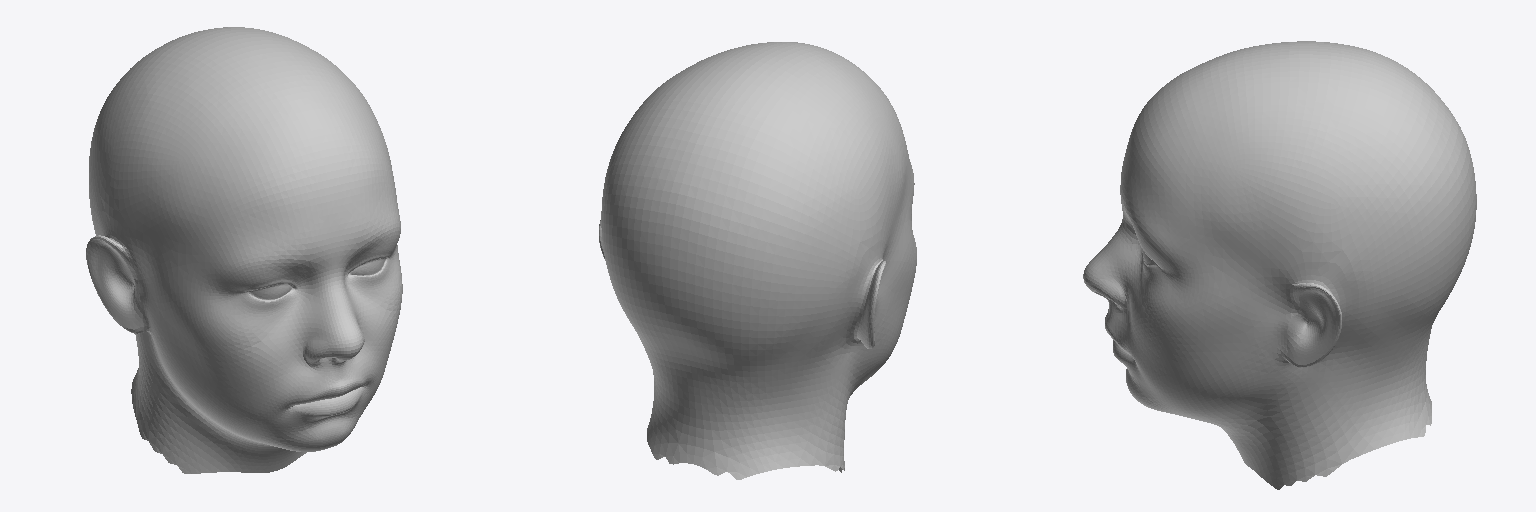
The model's file is oscar.obj.
3 views of the same model, side by side, from view 1: azimuth 30°, elevation 25°; view 2: azimuth 150°, elevation 25°; view 3: azimuth 270°, elevation 25° (orthographic).
Parts seen in each view (by area): view 1: FaceBuilderHead_Head_mesh; view 2: FaceBuilderHead_Head_mesh; view 3: FaceBuilderHead_Head_mesh.
Boxes of the visible parts, <box> form: FaceBuilderHead_Head_mesh: <box>86,27,402,473</box>; FaceBuilderHead_Head_mesh: <box>599,42,916,479</box>; FaceBuilderHead_Head_mesh: <box>1083,41,1476,489</box>.
Size of the model in its own units: 1.72 by 2.37 by 2.1.